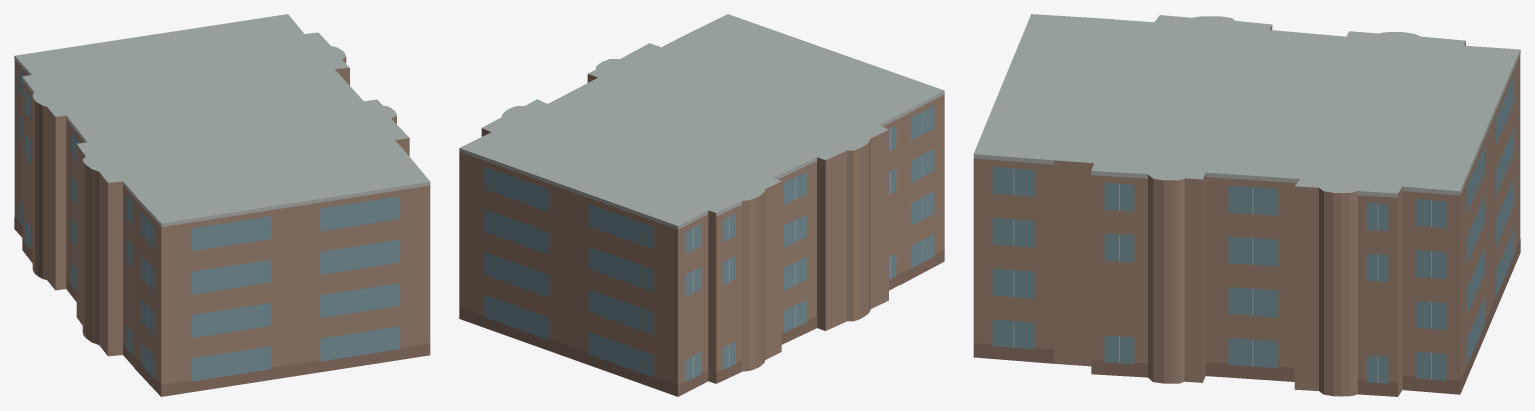
The model's file is survey-upis-32919075.glb.
3 renders of one model, left to right at view 1: azimuth 30°, elevation 25°; view 2: azimuth 150°, elevation 25°; view 3: azimuth 270°, elevation 25°, orthographic. The views are drawn at different scales.
Parts seen in each view (by area): view 1: survey-upis-32919075.tmp; view 2: survey-upis-32919075.tmp; view 3: survey-upis-32919075.tmp.
Boxes of the visible parts, x1=… form: survey-upis-32919075.tmp: x1=14, y1=14, x2=430, y2=396; survey-upis-32919075.tmp: x1=459, y1=14, x2=944, y2=396; survey-upis-32919075.tmp: x1=973, y1=14, x2=1520, y2=396.
Bounding box in the file's own units: 21.6 × 11.4 × 27.8.
